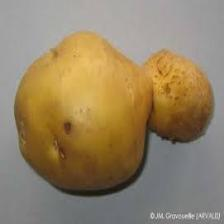Damaged potato: (12, 27, 210, 194)
